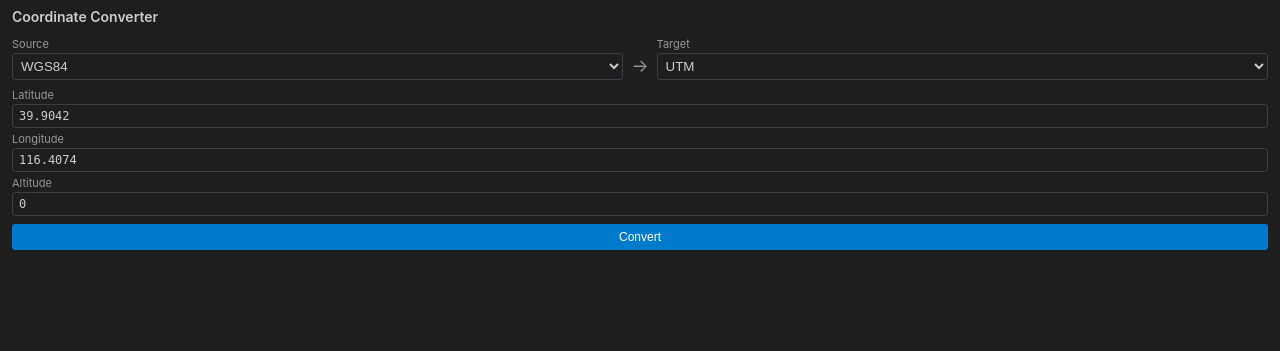
GisToolsPanel › WGS84 → UTM conversion shows Easting, Northing, Zone, Altitude results
Click the button "Convert" at x=640, y=237, box [12,224,1268,250]
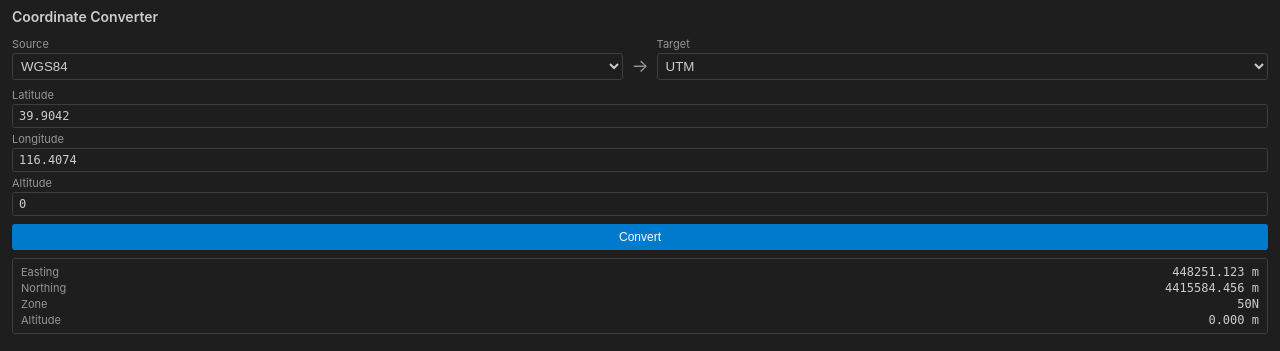
Expected: the text "Easting" is shown, [21,265,59,279]
Expected: the text "Northing" is shown, [21,281,66,295]
Expected: the text "Zone" is shown, [21,297,47,311]
